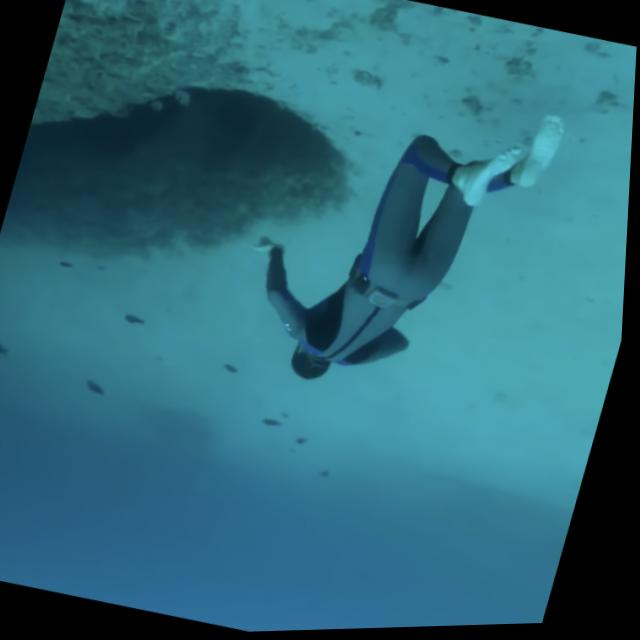human: (222, 53, 573, 428)
